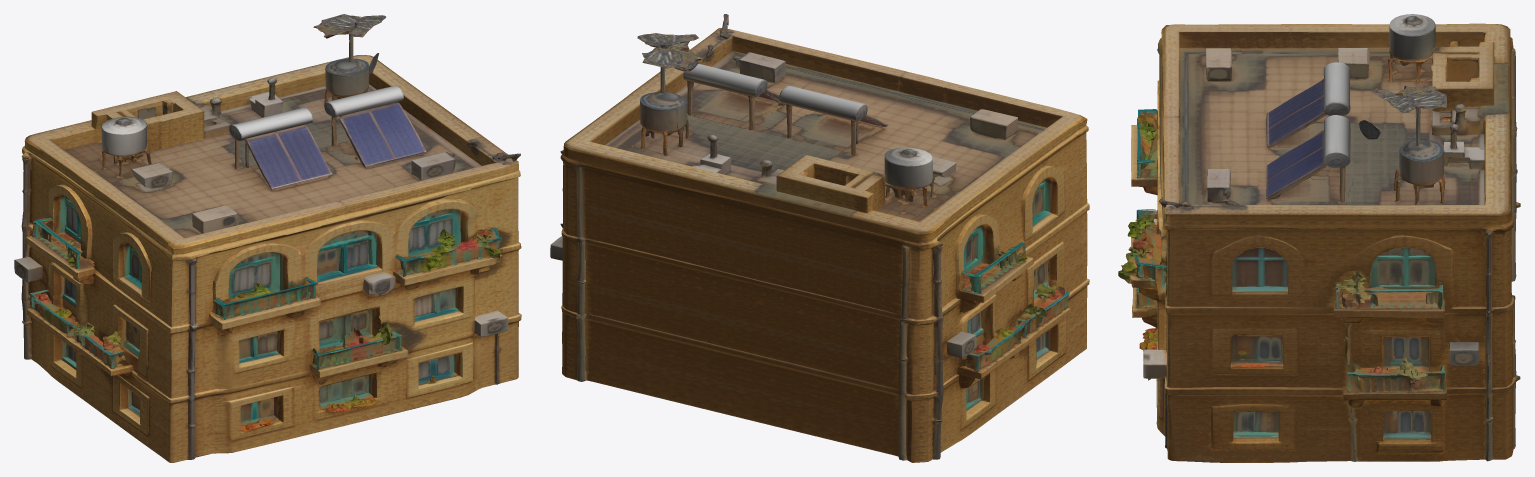
Rendered from r3_jer_flat_3.glb.
3 renders of one model, left to right at view 1: azimuth 30°, elevation 25°; view 2: azimuth 150°, elevation 25°; view 3: azimuth 270°, elevation 25°, orthographic. The views are drawn at different scales.
Parts seen in each view (by area): view 1: geometry_0; view 2: geometry_0; view 3: geometry_0.
Part boxes in pixels (x1,y1,x2,y2): geometry_0: (14,14,521,462); geometry_0: (550,14,1089,462); geometry_0: (1118,14,1520,462).
Size of the model in its own units: 16 by 11 by 12.
1 material, 1 textured.
